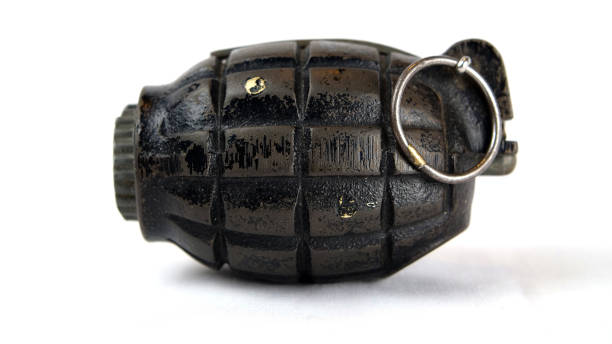e1: (110, 33, 518, 288)
